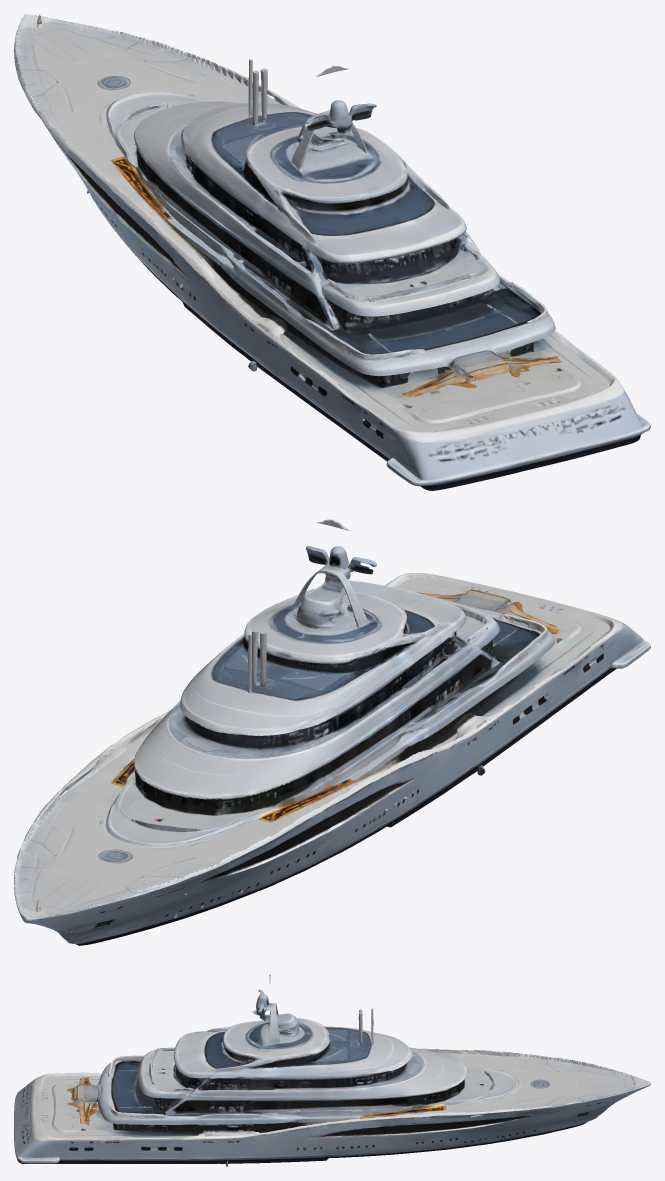
The picture shows the model from 3 angles, top to bottom: view 1: azimuth 30°, elevation 25°; view 2: azimuth 150°, elevation 25°; view 3: azimuth 270°, elevation 25°; orthographic projection. The views are drawn at different scales.
Visible parts, largest first — view 1: tripo_node_255c81ac-1826-4d64-b905-f24f84db996f; view 2: tripo_node_255c81ac-1826-4d64-b905-f24f84db996f; view 3: tripo_node_255c81ac-1826-4d64-b905-f24f84db996f.
Part boxes in pixels (<box>): tripo_node_255c81ac-1826-4d64-b905-f24f84db996f: <box>14,14,650,490</box>; tripo_node_255c81ac-1826-4d64-b905-f24f84db996f: <box>14,519,650,945</box>; tripo_node_255c81ac-1826-4d64-b905-f24f84db996f: <box>14,974,650,1166</box>.
Bounding box in the file's own units: 0.269 × 0.2729 × 1.
Materials: 1 (1 with a texture image).
